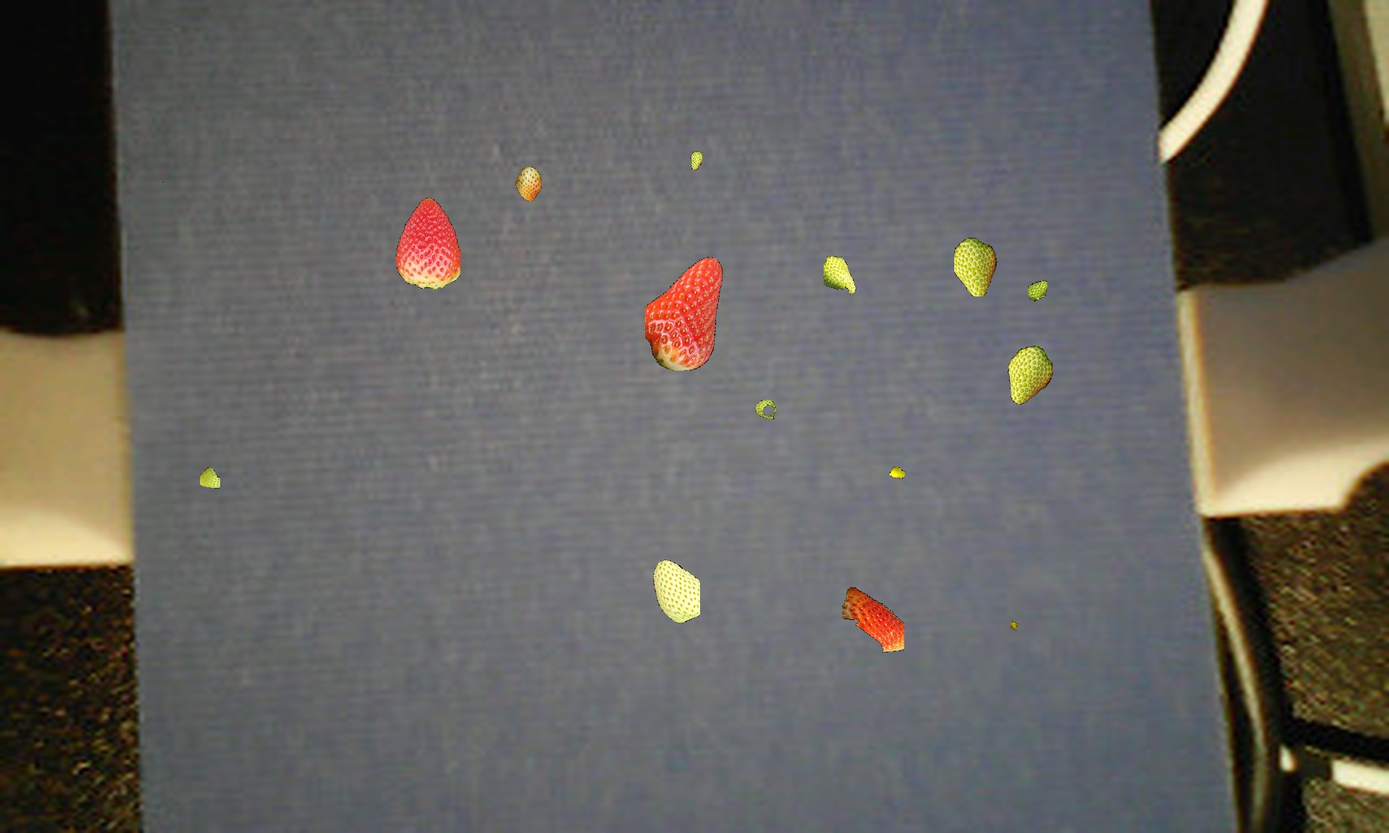strawberry: (627, 259, 736, 378), (398, 191, 465, 289), (840, 586, 905, 659), (999, 335, 1056, 406), (649, 556, 705, 621), (814, 247, 868, 305), (951, 230, 991, 305), (182, 459, 226, 497), (515, 160, 543, 206), (695, 141, 705, 178)
